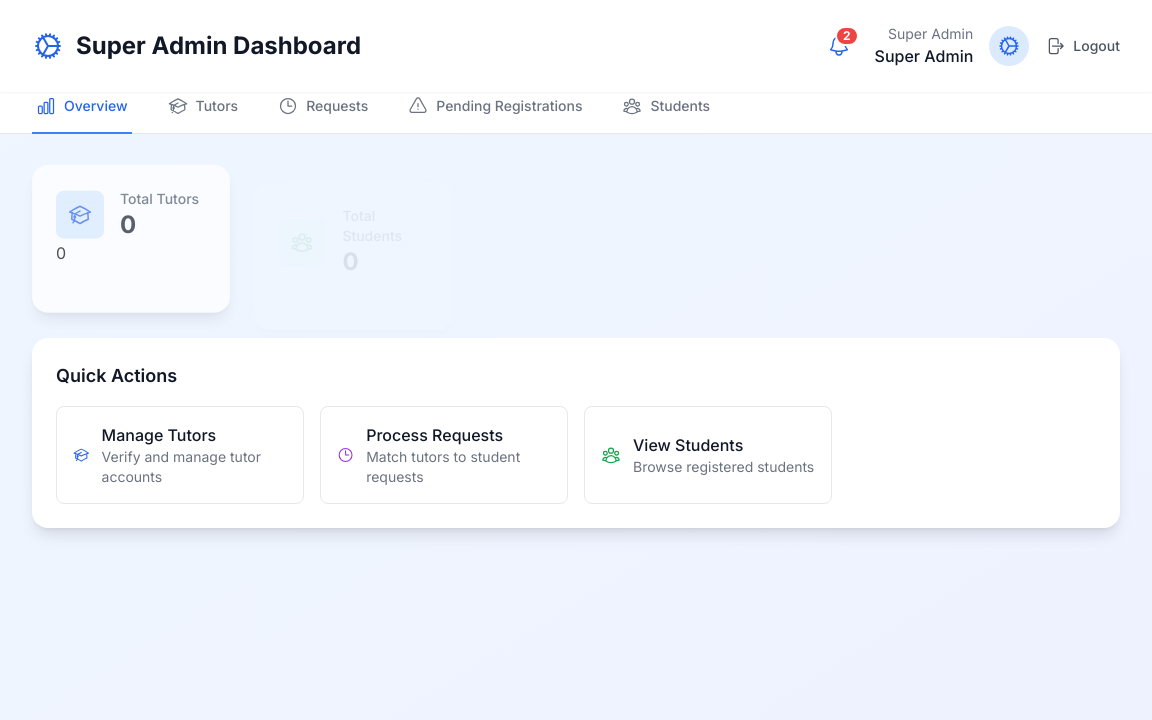
Scenario: Super Admin Notifications Dropdown › shows unread count text and view all link
What coordinates should you click on to do the following:
click the button named "2 unread notifications"
I would click on:
 (839, 46)
Its box is top-left (819, 26), bottom-right (859, 66).
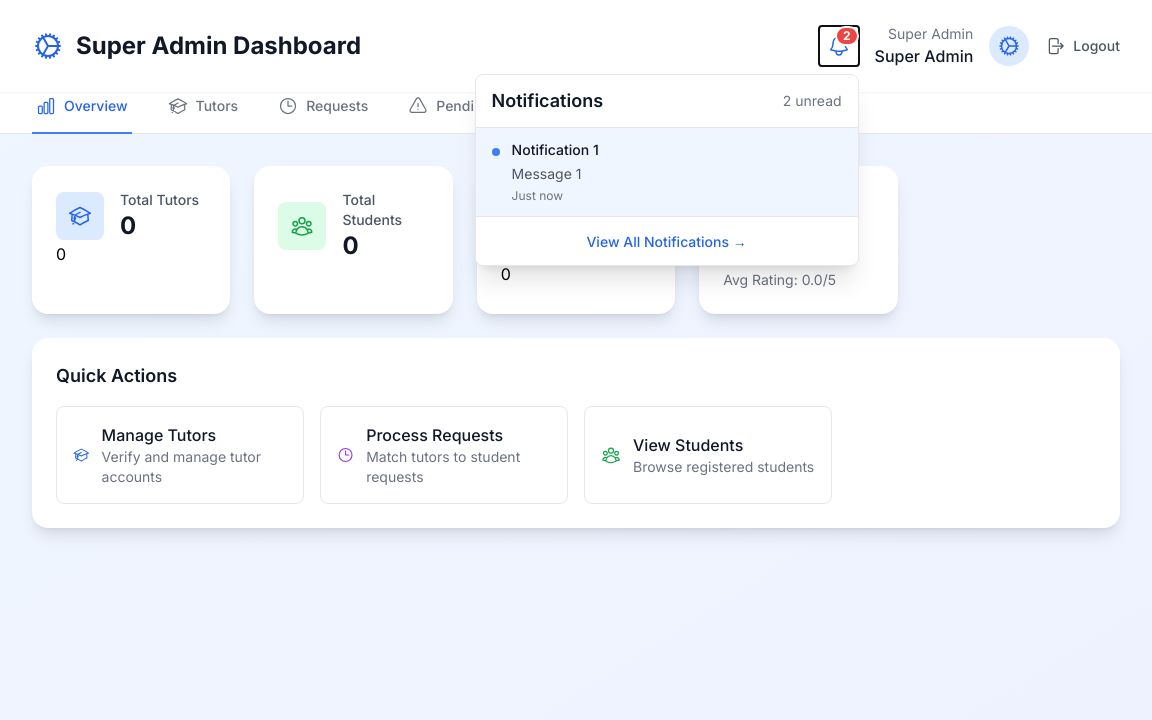
Now the text "2 unread" is shown, box top-left (783, 91), bottom-right (842, 111)
Now the button "View All Notifications →" is shown, box top-left (586, 232), bottom-right (747, 252)
